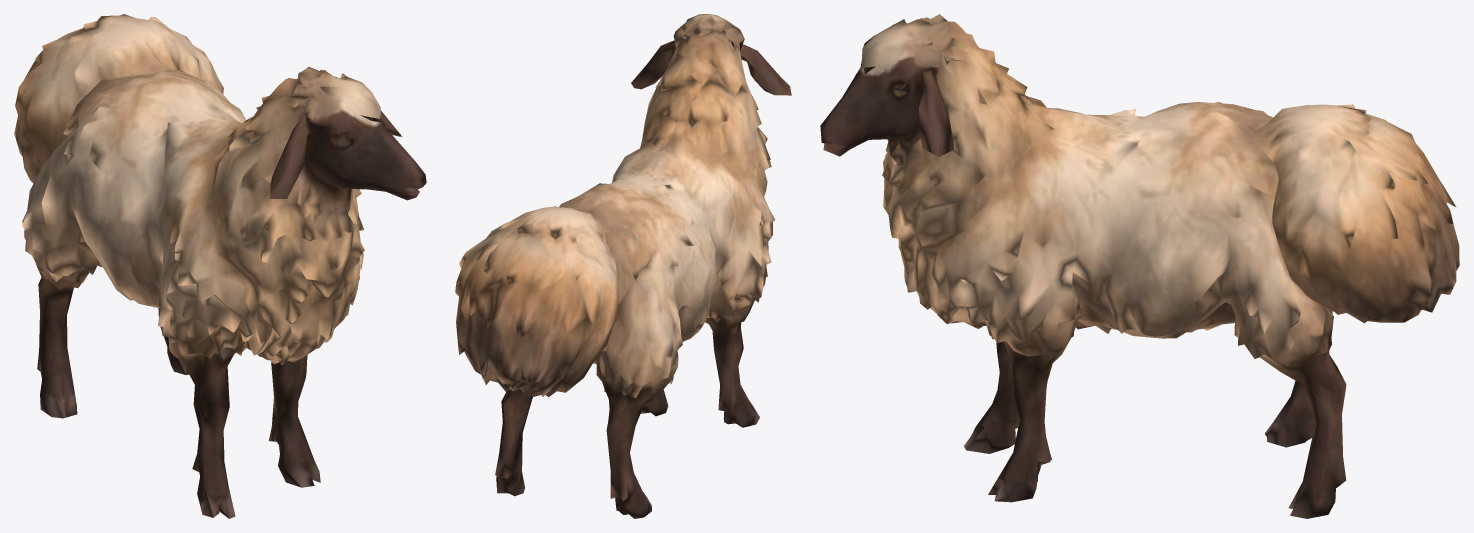
The model's file is sheep.phone.glb.
3 views of the same model, side by side, from view 1: azimuth 30°, elevation 25°; view 2: azimuth 150°, elevation 25°; view 3: azimuth 270°, elevation 25° (orthographic). The views are drawn at different scales.
Parts seen in each view (by area): view 1: sheep.raw; view 2: sheep.raw; view 3: sheep.raw.
Boxes of the visible parts, x1,y1,x2,y2 form: sheep.raw: [14, 14, 426, 518]; sheep.raw: [455, 14, 791, 518]; sheep.raw: [820, 14, 1459, 518].
Size of the model in its own units: 0.5039 by 0.95 by 1.18.
Materials: 1 (1 with a texture image).
